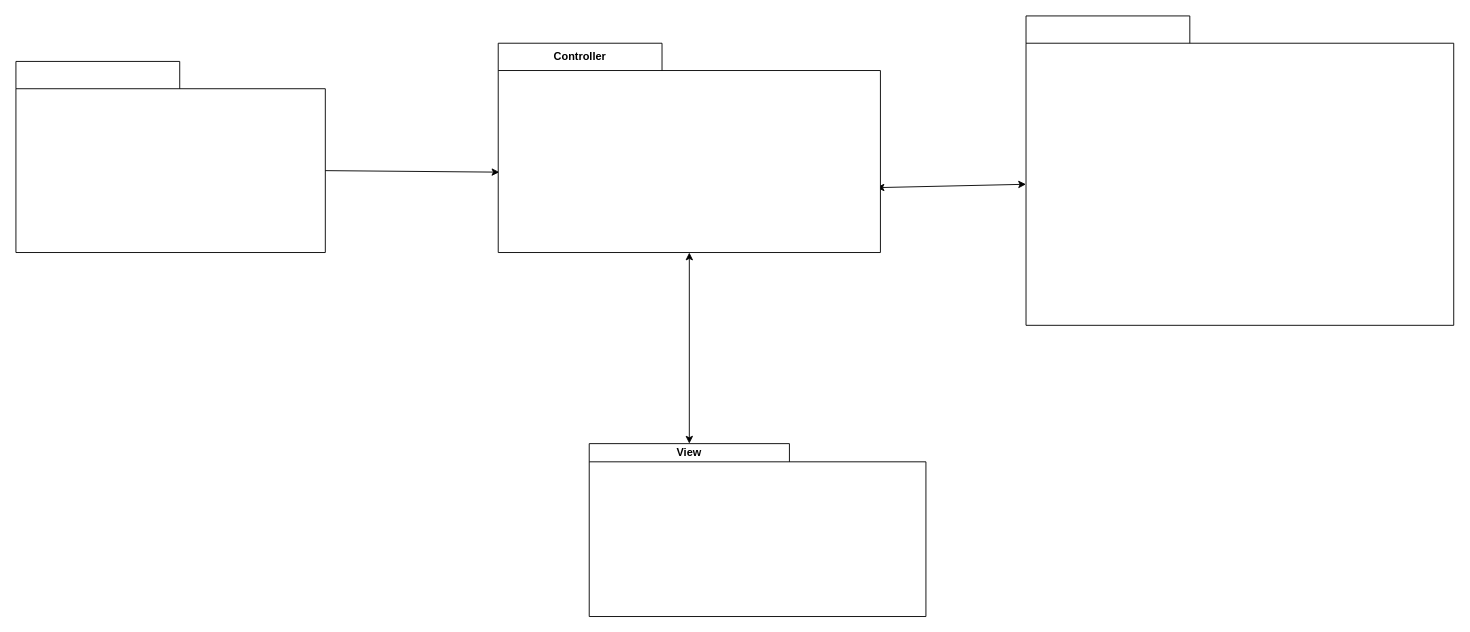
This 1470x632 diagram has some shape labels left out. Here are the shapes that lost their labels. From the top down, the centre of each, then its label:
(170,157): SimpleCircularList
(1239,170): Model
